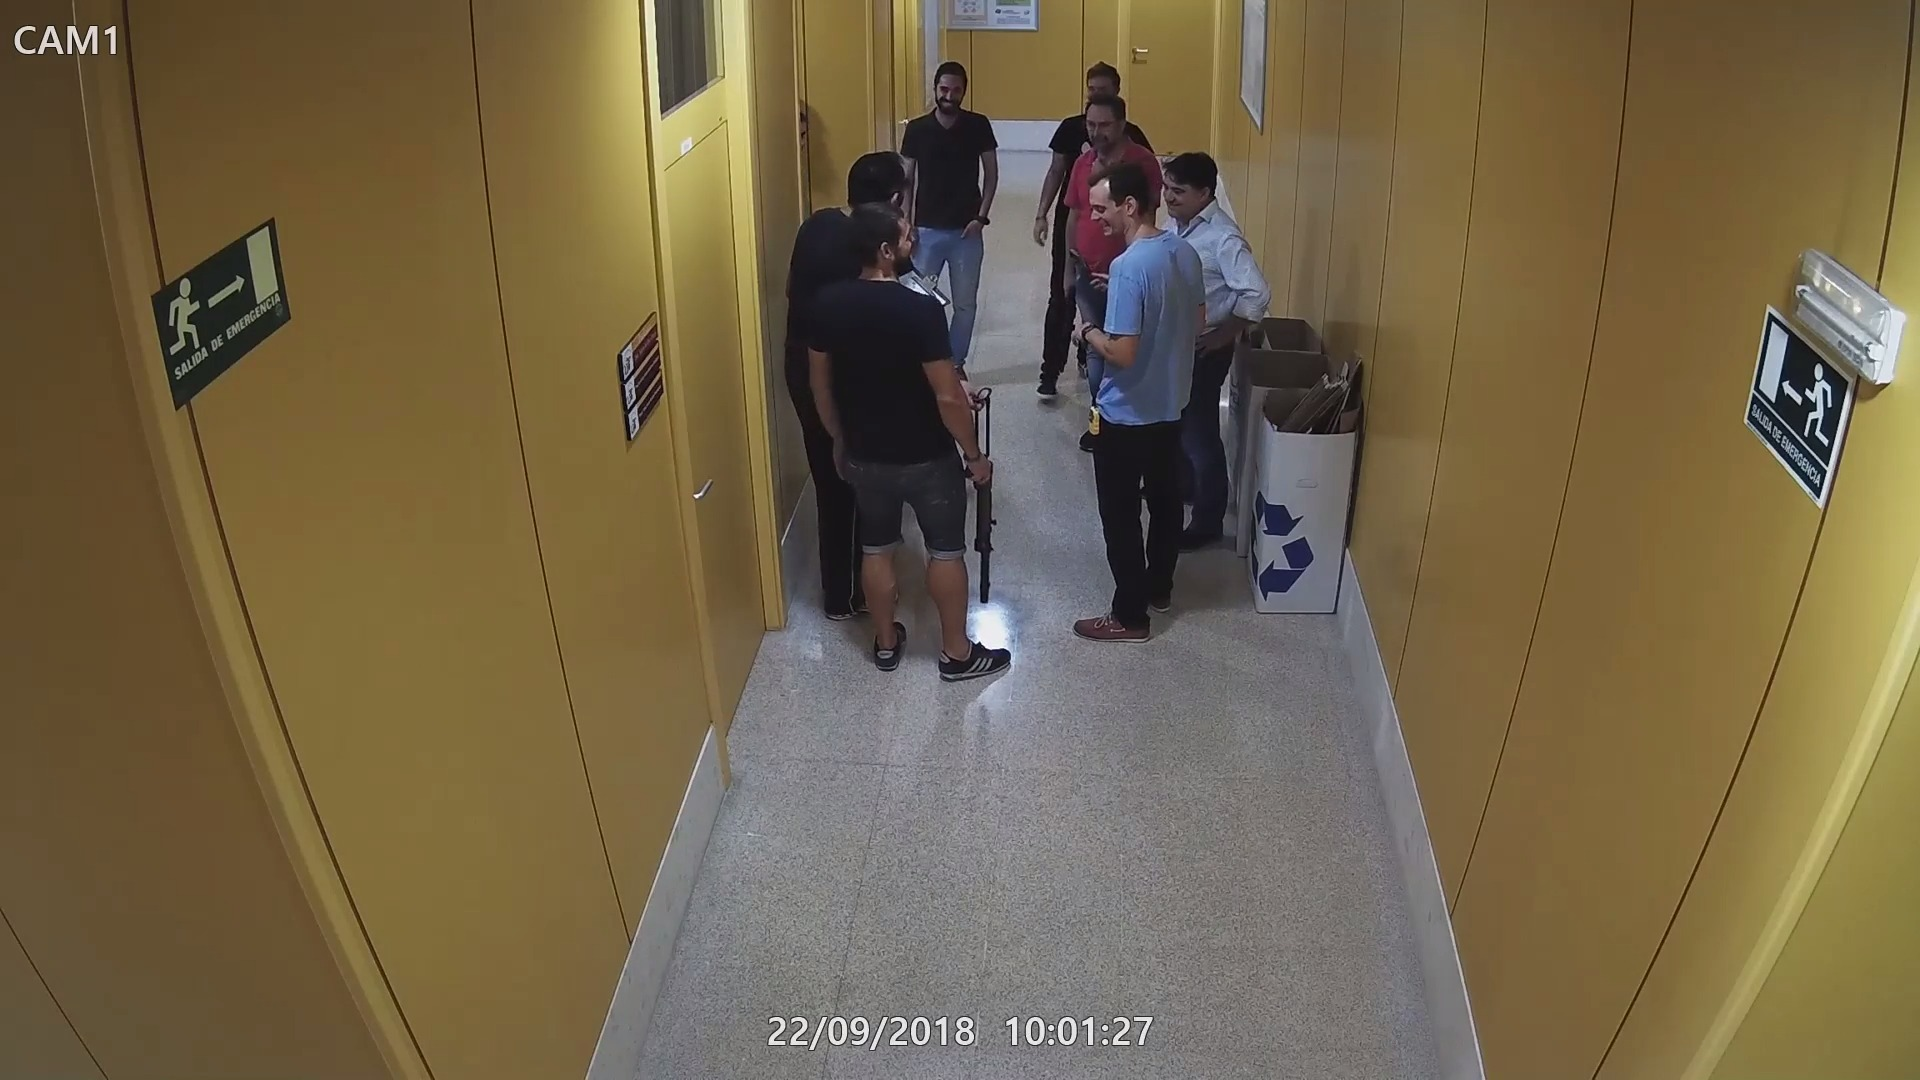Handgun: (1069, 244, 1096, 290)
Short_rifle: (968, 386, 998, 603), (1059, 270, 1085, 384)
